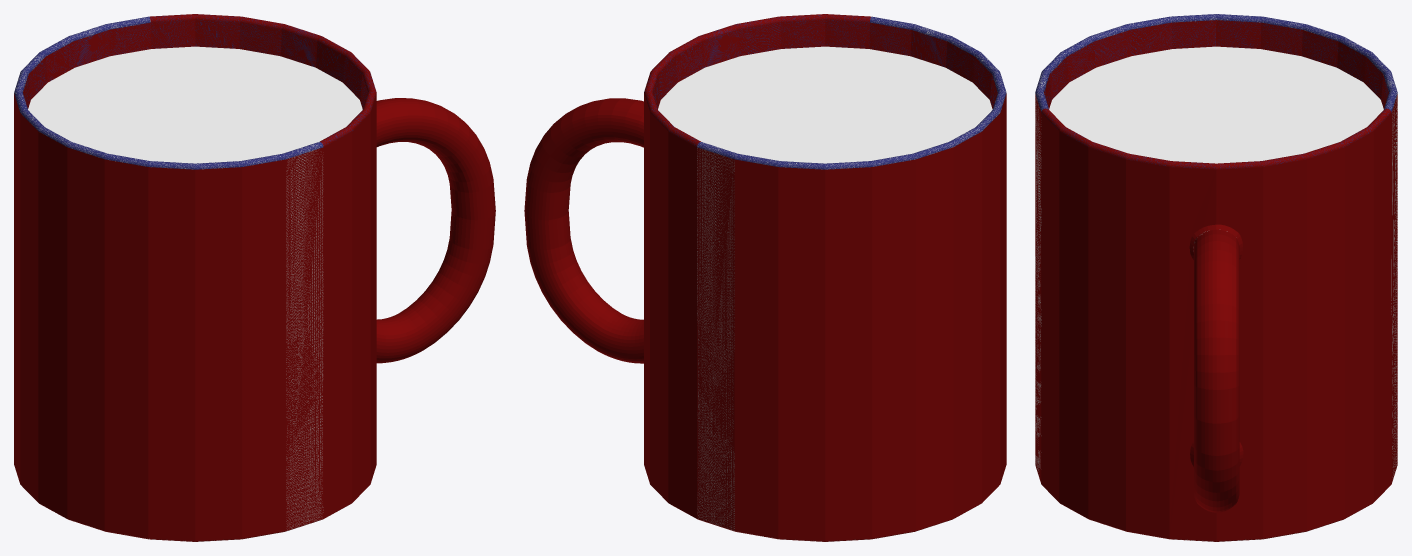
The picture shows the model from 3 angles, left to right: view 1: azimuth 30°, elevation 25°; view 2: azimuth 150°, elevation 25°; view 3: azimuth 270°, elevation 25°; orthographic projection.
Visible parts, largest first — view 1: mesh6_mesh6-geometry, mesh7_mesh7-geometry; view 2: mesh6_mesh6-geometry, mesh7_mesh7-geometry; view 3: mesh6_mesh6-geometry, mesh7_mesh7-geometry.
Boxes of the visible parts, bbox=[...] form: mesh6_mesh6-geometry: bbox=[14, 14, 495, 541]; mesh7_mesh7-geometry: bbox=[28, 46, 362, 163]; mesh6_mesh6-geometry: bbox=[524, 14, 1006, 541]; mesh7_mesh7-geometry: bbox=[658, 46, 992, 163]; mesh6_mesh6-geometry: bbox=[1035, 14, 1397, 541]; mesh7_mesh7-geometry: bbox=[1049, 46, 1383, 163].
Size of the model in its own units: 0.6889 by 0.5468 by 0.4759.
